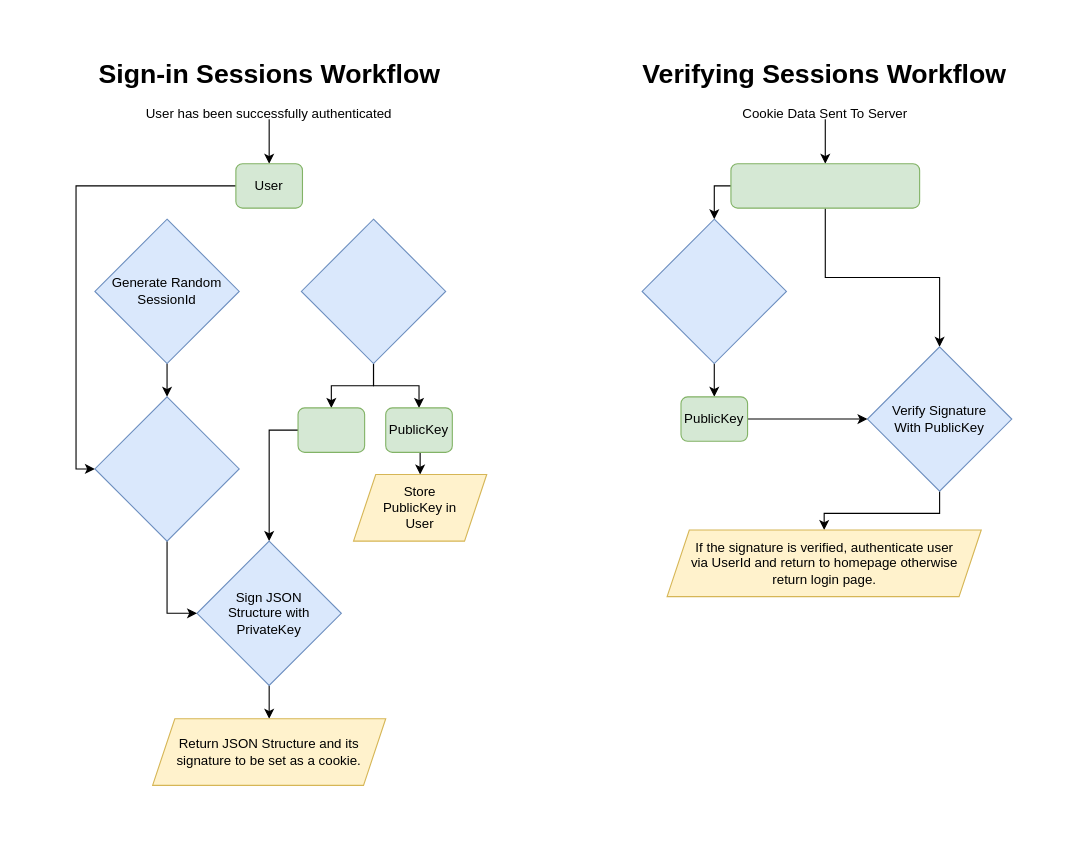
This 1082x855 diagram has some shape labels left out. The shapes that lost their labels are listed below. From the top down, each one's centre as x and y in pixels, then its label:
point 825,185: JSON Structure with UserId and SessionId and Signature
point 373,291: Generate Random RSA Keypair
point 713,291: Find PublicKey via UserId and Signature
point 331,429: PrivateKey
point 166,468: Generate JSON Object with UserId and SessionId
